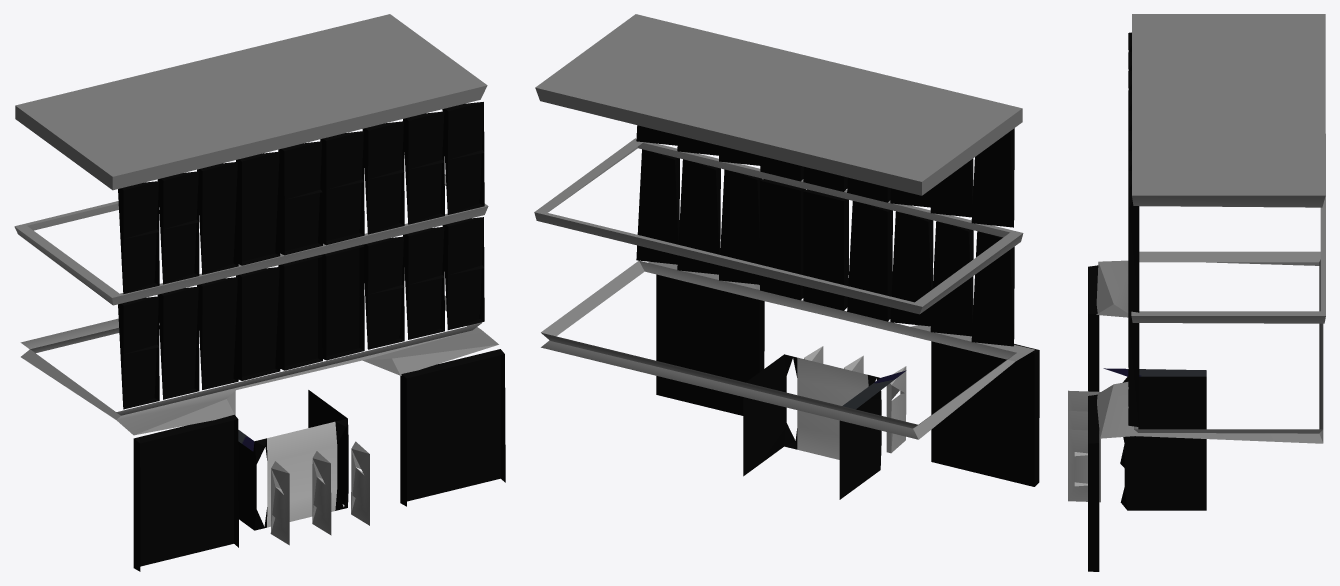
The model's file is LojaGenerica2RosaLOD2.fbx.
The picture shows the model from 3 angles, left to right: view 1: azimuth 30°, elevation 25°; view 2: azimuth 150°, elevation 25°; view 3: azimuth 270°, elevation 25°; orthographic projection. The views are drawn at different scales.
Visible parts, largest first — view 1: LojaGenerica2LOD2, SensoresLOD2; view 2: LojaGenerica2LOD2, SensoresLOD2; view 3: LojaGenerica2LOD2, SensoresLOD2.
Boxes of the visible parts, bbox=[...] form: LojaGenerica2LOD2: bbox=[14, 14, 505, 571]; SensoresLOD2: bbox=[270, 441, 369, 545]; LojaGenerica2LOD2: bbox=[534, 14, 1039, 499]; SensoresLOD2: bbox=[804, 346, 906, 453]; LojaGenerica2LOD2: bbox=[1088, 14, 1325, 571]; SensoresLOD2: bbox=[1068, 390, 1100, 502].
Bounding box in the file's own units: 1094 × 1073 × 654.
